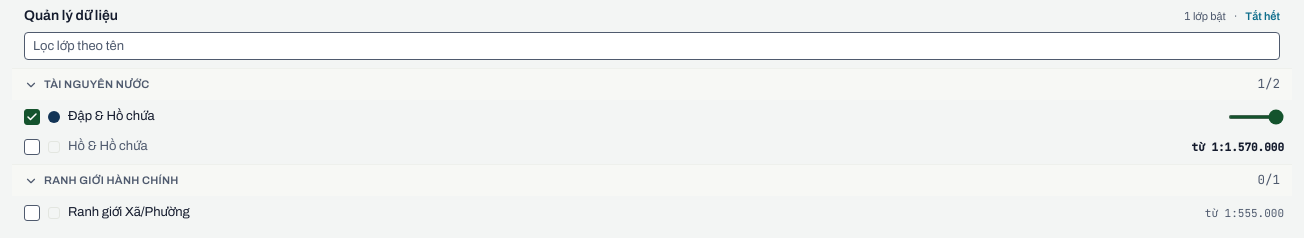
LayersPanelView › shows on/total on each group bar, and the bar folds its group away
The width and height of the screenshot is (1304, 238).
expect the button "Ranh giới hành chính 0/1" is shown: met, box [12,164,1292,196]
Step 1. Click the button "Tài nguyên nước 1/2" → point(97, 84), box [12,68,1292,100]
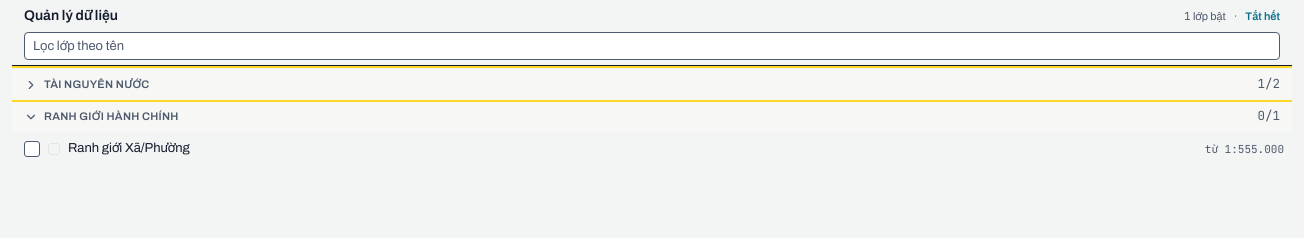
expect the checkbox named "Ranh giới Xã/Phường" is shown: met, box [24,141,40,157]
expect the button "Tài nguyên nước 1/2" is collapsed: met, box [12,68,1292,100]
expect the label "Đập & Hồ chứa" is gone: met
